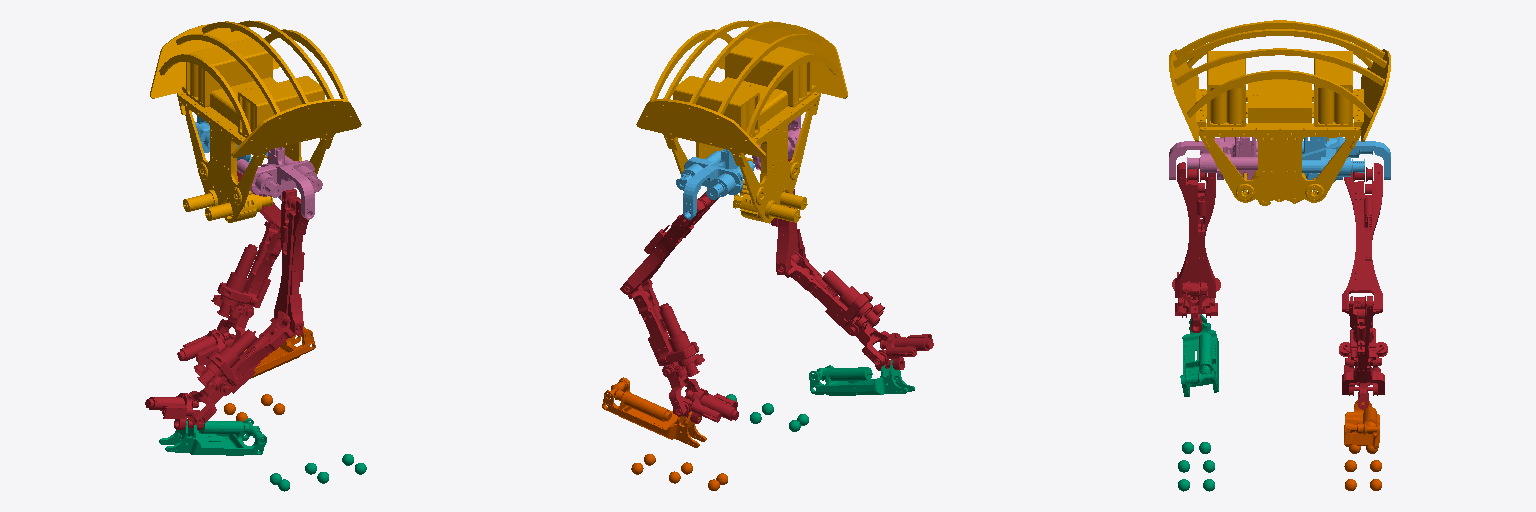
--- Facts derived from the render (not from the file) ---
The picture shows the robot from 3 angles, left to right: view 1: azimuth 30°, elevation 25°; view 2: azimuth 150°, elevation 25°; view 3: azimuth 270°, elevation 25°; orthographic projection.
Model Legs with 11 links and 10 joints (10 revolute), rooted at pelvis, posed every joint at zero.
Links seen in each view (by area): view 1: pelvis, Biped__Bottom_Right_Leg, Biped__Bottom_Left_Leg, r_foot, Biped__Top_Right_Leg, Biped__Right_Hip, l_foot, Biped__Right_Ankle, Biped__Left_Ankle; view 2: pelvis, Biped__Bottom_Left_Leg, Biped__Bottom_Right_Leg, l_foot, r_foot, Biped__Left_Hip, Biped__Top_Left_Leg, Biped__Left_Ankle, Biped__Right_Ankle, Biped__Top_Right_Leg; view 3: pelvis, Biped__Top_Left_Leg, Biped__Top_Right_Leg, Biped__Bottom_Left_Leg, r_foot, Biped__Left_Hip, Biped__Right_Hip, l_foot, Biped__Bottom_Right_Leg.
Link boxes in pixels (box(x1,y1,x2,y2)): pelvis: box(150, 20, 361, 222); Biped__Bottom_Right_Leg: box(189, 312, 300, 425); Biped__Bottom_Left_Leg: box(211, 221, 281, 356); r_foot: box(159, 418, 366, 491); Biped__Top_Right_Leg: box(274, 189, 308, 335); Biped__Right_Hip: box(237, 147, 322, 219); l_foot: box(188, 326, 315, 421); Biped__Right_Ankle: box(145, 393, 203, 429); Biped__Left_Ankle: box(177, 329, 243, 364); pelvis: box(636, 20, 847, 223); Biped__Bottom_Left_Leg: box(625, 279, 704, 416); Biped__Bottom_Right_Leg: box(779, 252, 889, 366); l_foot: box(602, 377, 727, 490); r_foot: box(726, 360, 914, 431); Biped__Left_Hip: box(676, 149, 754, 219); Biped__Top_Left_Leg: box(620, 189, 718, 294); Biped__Left_Ankle: box(673, 388, 738, 423); Biped__Right_Ankle: box(875, 333, 933, 370); Biped__Top_Right_Leg: box(771, 130, 805, 274); pelvis: box(1169, 20, 1390, 205); Biped__Top_Left_Leg: box(1342, 163, 1382, 309); Biped__Top_Right_Leg: box(1175, 162, 1215, 297); Biped__Bottom_Left_Leg: box(1339, 296, 1387, 395); r_foot: box(1178, 314, 1218, 491); Biped__Left_Hip: box(1302, 137, 1390, 181); Biped__Right_Hip: box(1169, 137, 1257, 179); l_foot: box(1344, 400, 1381, 490); Biped__Bottom_Right_Leg: box(1172, 278, 1220, 317).
Size in the robot's own frame: 0.4578 by 0.3562 by 0.7618 metres.
11 mesh visuals loaded from 11 distinct referenced files (10 binary STL, 1 OBJ).

URDF robot description (Legs):
<?xml version="1.0" ?>
<robot name="Legs">

<!-- TRANSMISSIONS -->
  <transmission name="l_hip_abduct_trans" type="pr2_mechanism_model/SimpleTransmission">
    <actuator name="l_hip_abduct_motor"/>
    <joint name="l_hip_abduct"/>
    <mechanicalReduction>1</mechanicalReduction>
  </transmission>
  <transmission name="l_hip_flex_trans" type="pr2_mechanism_model/SimpleTransmission">
    <actuator name="l_hip_flex_motor"/>
    <joint name="l_hip_flex"/>
    <mechanicalReduction>1</mechanicalReduction>
  </transmission>
  <transmission name="l_knee_trans" type="pr2_mechanism_model/SimpleTransmission">
    <actuator name="l_knee_motor"/>
    <joint name="l_knee"/>
    <mechanicalReduction>1</mechanicalReduction>
  </transmission>
  <transmission name="l_ankle_flex_trans" type="pr2_mechanism_model/SimpleTransmission">
    <actuator name="l_ankle_flex_motor"/>
    <joint name="l_ankle_flex"/>
    <mechanicalReduction>1</mechanicalReduction>
  </transmission>
  <transmission name="l_ankle_roll_trans" type="pr2_mechanism_model/SimpleTransmission">
    <actuator name="l_ankle_roll_motor"/>
    <joint name="l_ankle_roll"/>
    <mechanicalReduction>1</mechanicalReduction>
  </transmission>
<!--   <transmission name="l_toe_flex_trans" type="pr2_mechanism_model/SimpleTransmission">
    <actuator name="l_toe_flex_motor"/>
    <joint name="l_toe_flex"/>
    <mechanicalReduction>1</mechanicalReduction>
  </transmission> -->
  <transmission name="r_hip_abduct_trans" type="pr2_mechanism_model/SimpleTransmission">
    <actuator name="r_hip_abduct_motor"/>
    <joint name="r_hip_abduct"/>
    <mechanicalReduction>1</mechanicalReduction>
  </transmission>
  <transmission name="r_hip_flex_trans" type="pr2_mechanism_model/SimpleTransmission">
    <actuator name="r_hip_flex_motor"/>
    <joint name="r_hip_flex"/>
    <mechanicalReduction>1</mechanicalReduction>
  </transmission>
  <transmission name="r_knee_trans" type="pr2_mechanism_model/SimpleTransmission">
    <actuator name="r_knee_motor"/>
    <joint name="r_knee"/>
    <mechanicalReduction>1</mechanicalReduction>
  </transmission>
  <transmission name="r_ankle_flex_trans" type="pr2_mechanism_model/SimpleTransmission">
    <actuator name="r_ankle_flex_motor"/>
    <joint name="r_ankle_flex"/>
    <mechanicalReduction>1</mechanicalReduction>
  </transmission>
  <transmission name="r_ankle_roll_trans" type="pr2_mechanism_model/SimpleTransmission">
    <actuator name="r_ankle_roll_motor"/>
    <joint name="r_ankle_roll"/>
    <mechanicalReduction>1</mechanicalReduction>
  </transmission>
<!--   <transmission name="r_toe_flex_trans" type="pr2_mechanism_model/SimpleTransmission">
    <actuator name="r_toe_flex_motor"/>
    <joint name="r_toe_flex"/>
    <mechanicalReduction>1</mechanicalReduction>
  </transmission> -->



<!-- JOINTS -->
  <joint name="l_hip_abduct" type="revolute">
    <parent link="pelvis"/>
    <child link="Biped__Left_Hip"/>
    <origin rpy="1.56567  0      -1.57079" xyz="0.0107    0.05539   -0.10919"/>
    <axis xyz="0      -0.00511  0.99998"/>
    <limit effort="100.0" lower="-0.486936705914" upper="0.628150227902" velocity="0.0"/>
  </joint>
  <joint name="l_hip_flex" type="revolute">
    <parent link="Biped__Left_Hip"/>
    <child link="Biped__Top_Left_Leg"/>
    <origin rpy="0  0  0" xyz="-8.05900000e-02  -1.00000000e-05   3.02000000e-03"/>
    <axis xyz="-1  0  0"/>
    <limit effort="100.0" lower="-2.03583339041" upper="2.16044300072" velocity="0.0"/>
  </joint>
  <joint name="l_knee" type="revolute">
    <parent link="Biped__Top_Left_Leg"/>
    <child link="Biped__Bottom_Left_Leg"/>
    <origin rpy="0  0  0" xyz="0.00373 -0.20954 -0.00107"/>
    <axis xyz="-1  0  0"/>
    <limit effort="100.0" lower="-2.61562604133" upper="2.60767984583" velocity="0.0"/>
  </joint>
  <joint name="l_ankle_flex" type="revolute">
    <parent link="Biped__Bottom_Left_Leg"/>
    <child link="Biped__Left_Ankle"/>
    <origin rpy="0  0  0" xyz="-1.50000000e-04  -2.21290000e-01  -1.13000000e-03"/>
    <axis xyz="-1  0  0"/>
    <limit effort="100.0" lower="-1.36043531266" upper="0.135930877095" velocity="0.0"/>
  </joint>
  <joint name="l_ankle_roll" type="revolute">
    <parent link="Biped__Left_Ankle"/>
    <child link="l_foot"/>
    <!-- <origin rpy="0  0  0" xyz="-0.00077 -0.0179  -0.06914"/> -->
    <origin rpy="-1.5708  1.5708 0" xyz="-0.00077 -0.0179  -0.06914"/>
    <!-- <axis xyz="0      -0.00511  0.99998"/> -->
    <axis xyz="-0.99998      0  -0.00511"/>
    <limit effort="100.0" lower="-1.32128191897" upper="1.32128191897" velocity="0.0"/>
  </joint>
  <!-- <joint name="l_toe_flex" type="revolute">
    <parent link="l_foot"/>
    <child link="l_toe"/>
    <! <origin rpy="0  0  0" xyz="0.00232 -0.03426 -0.06708"/> old>
    <origin rpy="1.5708  0 -1.5708" xyz="0.06708 -0.00232 -0.03426"/>
    <axis xyz="-1  0  0"/>
    <limit effort="100.0" lower="-0.421908321567" upper="1.92797301525" velocity="0.0"/>
  </joint> -->
  <joint name="r_hip_abduct" type="revolute">
    <parent link="pelvis"/>
    <child link="Biped__Right_Hip"/>
    <origin rpy="1.56567  0      -1.57079" xyz="0.00455  -0.05573  -0.10919"/>
    <axis xyz="0       0.00511 -0.99998"/>
    <limit effort="100.0" lower="-0.450917249297" upper="0.628150227902" velocity="0.0"/>
  </joint>
  <joint name="r_hip_flex" type="revolute">
    <parent link="Biped__Right_Hip"/>
    <child link="Biped__Top_Right_Leg"/>
    <origin rpy="0  0  0" xyz="7.52400000e-02   1.00000000e-05  -3.13000000e-03"/>
    <axis xyz="-1  0  0"/>
    <limit effort="100.0" lower="-2.03583339041" upper="2.16044300072" velocity="0.0"/>
  </joint>
  <joint name="r_knee" type="revolute">
    <parent link="Biped__Top_Right_Leg"/>
    <child link="Biped__Bottom_Right_Leg"/>
    <origin rpy="0  0  0" xyz="0.00328 -0.20954 -0.00107"/>
    <axis xyz="-1  0  0"/>
    <limit effort="100.0" lower="-2.60767984583" upper="2.60767984583" velocity="0.0"/>
  </joint>
  <joint name="r_ankle_flex" type="revolute">
    <parent link="Biped__Bottom_Right_Leg"/>
    <child link="Biped__Right_Ankle"/>
    <origin rpy="0  0  0" xyz="4.00000000e-05  -2.21290000e-01  -1.13000000e-03"/>
    <axis xyz="-1  0  0"/>
    <limit effort="100.0" lower="-1.34264425814" upper="0.135930877095" velocity="0.0"/>
  </joint>
  <joint name="r_ankle_roll" type="revolute">
    <parent link="Biped__Right_Ankle"/>
    <child link="r_foot"/>
    <!--original: origin rpy="0  0  0" xyz="-0.00079 -0.01789 -0.07124"/-->
    <origin rpy="-1.5708  1.5708 0" xyz="-0.00079 -0.01789 -0.07124"/>
    <!--axis xyz="0       0.00511 -0.99998"/-->
    <axis xyz="0.99998    0   0.00511"/>
    <limit effort="100.0" lower="-1.32128191897" upper="1.32128191897" velocity="0.0"/>
  </joint>
<!--   <joint name="r_toe_flex" type="revolute">
    <parent link="r_foot"/>
    <child link="r_toe"/>
    <! <origin rpy="0  0  0" xyz="0.00258 -0.03427 -0.06497"/> old>
    <origin rpy="1.5708  0 -1.5708" xyz="0.06497 -0.00258 -0.03427"/>
    <axis xyz="-1  0  0"/>
    <limit effort="100.0" lower="-0.421908321567" upper="1.92797301525" velocity="0.0"/>
  </joint> -->

<!-- LINKS -->
  <link name="pelvis">
    <inertial>
      <mass value="3.53324885586669"/>
      <!-- origin used to be at xyz=-0.00768   0.00017   0.62433"-->
      <origin rpy="1.56567  0      -1.57079" xyz="0 0 0"/>
      <inertia ixx="0.0271179077728007" ixy="1.18852566353138E-05" ixz="2.95478792996208E-05" iyy="0.0323353494450389" iyz="0.00289482168449842" izz="0.0422145237899791"/>
    </inertial>
    <collision name="Biped__Body_collision">
      <origin rpy="1.56567  0      -1.57079" xyz="0.0786    0.05923   -0.41164"/>
      <geometry>
        <mesh filename="meshes/Body_col.STL" scale="1 1 1"/>
      </geometry>
    </collision>
    <visual name="Biped__Body_visual">
      <origin rpy="1.56567  0      -1.57079" xyz="0.0786    0.05923   -0.41164"/>
      <geometry>
        <mesh filename="meshes/Body.obj" scale="1 1 1"/>
      </geometry>
    </visual>
  </link>
  <link name="Biped__Left_Hip">
    <inertial>
      <mass value="0.437298303222345"/>
      <origin rpy="0  0  0" xyz="-0.03492  0.03099  0.00015"/>
      <inertia ixx="0.000344658356090036" ixy="1.4438940947967E-05" ixz="5.03774354824921E-05" iyy="0.000819710121372963" iyz="1.99893504999227E-05" izz="0.00066955963284712"/>
    </inertial>
    <collision name="Biped__Left_Hip_collision">
      <origin rpy="0  0  0" xyz="-0.00384 -0.3021  -0.06945"/>
      <geometry>
        <mesh filename="meshes/Left_Hip_col.STL" scale="1 1 1"/>
      </geometry>
    </collision>
    <visual name="Biped__Left_Hip_visual">
      <origin rpy="0  0  0" xyz="-0.00384 -0.3021  -0.06945"/>
      <geometry>
        <mesh filename="meshes/Left_Hip.STL" scale="1 1 1"/>
      </geometry>
    </visual>
  </link>
  <link name="Biped__Top_Left_Leg">
    <inertial>
      <mass value="0.498661421818378"/>
      <origin rpy="0  0  0" xyz="0      -0.09292 -0.00071"/>
      <inertia ixx="0.00222023286489819" ixy="2.76170328092637E-05" ixz="4.42071982951624E-07" iyy="0.000133616406118555" iyz="1.5209311638611E-05" izz="0.00230781854965746"/>
    </inertial>
    <collision name="Biped__Top_Left_Leg_collision">
      <origin rpy="0  0  0" xyz="0.07675 -0.30208 -0.07247"/>
      <geometry>
        <mesh filename="meshes/Top_Left_Leg_col.STL" scale="1 1 1"/>
      </geometry>
    </collision>
    <visual name="Biped__Top_Left_Leg_visual">
      <origin rpy="0  0  0" xyz="0.07675 -0.30208 -0.07247"/>
      <geometry>
        <mesh filename="meshes/Top_Left_Leg.STL" scale="1 1 1"/>
      </geometry>
      <material name="red">
        <color rgba ="0.675 0.169 0.216 1.0"/>
      </material>
    </visual>
  </link>
  <link name="Biped__Bottom_Left_Leg">
    <inertial>
      <mass value="0.512558545145301"/>
      <origin rpy="0  0  0" xyz="0      -0.11018  0.00843"/>
      <inertia ixx="0.00213377963819277" ixy="3.74835359824284E-05" ixz="4.14809936352257E-06" iyy="0.000231679313040171" iyz="0.000107877166470471" izz="0.0021213704718963"/>
    </inertial>
    <collision name="Biped__Bottom_Left_Leg_collision">
      <origin rpy="0  0  0" xyz="0.07301 -0.09254 -0.0714"/>
      <geometry>
        <mesh filename="meshes/Bottom_Left_Leg_col.STL" scale="1 1 1"/>
      </geometry>
    </collision>
    <visual name="Biped__Bottom_Left_Leg_visual">
      <origin rpy="0  0  0" xyz="0.07301 -0.09254 -0.0714"/>
      <geometry>
        <mesh filename="meshes/Bottom_Left_Leg.STL" scale="1 1 1"/>
      </geometry>
      <material name="red"/>
    </visual>
  </link>
  <link name="Biped__Left_Ankle">
    <inertial>
      <mass value="0.117206413777382"/>
      <origin rpy="0  0  0" xyz="0       0.00525  0.02552"/>
      <inertia ixx="0.000111896827570048" ixy="5.94543100842475E-07" ixz="2.57140126177776E-06" iyy="0.000105965848764851" iyz="2.65868228080628E-05" izz="4.20803404080659E-05"/>
    </inertial>
    <collision name="Biped__Left_Ankle_collision">
      <origin rpy="0  0  0" xyz="0.07317  0.12875 -0.07027"/>
      <geometry>
        <mesh filename="meshes/Left_Ankle_col.STL" scale="1 1 1"/>
      </geometry>
    </collision>
    <visual name="Biped__Left_Ankle_visual">
      <origin rpy="0  0  0" xyz="0.07317  0.12875 -0.07027"/>
      <geometry>
        <mesh filename="meshes/Left_Ankle.STL" scale="1 1 1"/>
      </geometry>
      <material name="red"/>
    </visual>
  </link>
  <link name="l_foot">
    <inertial>
      <mass value="0.350801552548944"/>
      <!-- <origin rpy="0  0  0" xyz="-0.00146 -0.02757 -0.00014"/> -->
      <origin rpy="1.5708  0 -1.5708" xyz="0.00014 0.00146 -0.02757"/>
      <inertia ixx="0.000904665834453429" ixy="7.01175958971625E-06" ixz="4.60520410965569E-06" iyy="0.000926980236054857" iyz="5.01437405892954E-05" izz="0.00014911487451342"/>
    </inertial>
    <collision name="Biped__Left_Foot_collision">
      <!-- <origin rpy="0  0  0" xyz="0.07394  0.14666 -0.00112"/> -->
      <origin rpy="1.5708  0 -1.5708" xyz="0.00112  -0.07394 0.14666"/>
      <geometry>
        <mesh filename="meshes/Left_Foot_col.STL" scale="1 1 1"/>
      </geometry>
    </collision>
    <visual name="Biped__Left_Foot_visual">
      <origin rpy="1.5708  0 -1.5708" xyz="0.00112  -0.07394 0.14666"/>
      <geometry>
        <mesh filename="meshes/Left_Foot.STL" scale="1 1 1"/>
      </geometry>
    </visual>

<!-- LEFT FOOT CONTACTS: Heel, Midfoot, and Toe are all on foot link-->

    <collision group="heel">
      <!-- <origin rpy="0 0 0" xyz="0.0139 -0.048 0.1002"/> -->
      <origin rpy="0 0 0" xyz="-0.1002 -0.0139 -0.048"/>
      <geometry>
        <sphere radius="0.0"/>
      </geometry>
    </collision>
    <visual group="heel">
      <origin rpy="0 0 0" xyz="-0.1002 -0.0139 -0.048"/>
      <geometry>
        <sphere radius="0.01"/>
      </geometry>
    </visual>
    <collision group="heel">
      <origin rpy="0 0 0" xyz="-0.1002 0.0139 -0.048"/>
      <geometry>
        <sphere radius="0.0"/>
      </geometry>
    </collision>
    <visual group="heel">
      <origin rpy="0 0 0" xyz="-0.1002 0.0139 -0.048"/>
      <geometry>
        <sphere radius="0.01"/>
      </geometry>
    </visual>

    <collision group="midfoot">
      <!-- <origin rpy="0 0 0" xyz="0.0203 -0.0472 0.0294"/> -->
      <origin rpy="0 0 0" xyz="-0.0294 -0.0203 -0.0472"/>
      <geometry>
        <sphere radius="0.0"/>
      </geometry>
    </collision>
    <visual group="midfoot">
      <origin rpy="0 0 0" xyz="-0.0294 -0.0203 -0.0472"/>
      <geometry>
        <sphere radius="0.01"/>
      </geometry>
    </visual>
    <collision group="midfoot">
      <origin rpy="0 0 0" xyz="-0.0294 0.0203 -0.0472"/>
      <geometry>
        <sphere radius="0.0"/>
      </geometry>
    </collision>
    <visual group="midfoot">
      <origin rpy="0 0 0" xyz="-0.0294 0.0203 -0.0472"/>
      <geometry>
        <sphere radius="0.01"/>
      </geometry>
    </visual>

    <collision group="toe">
      <!-- <origin rpy="0 0 0" xyz="0.0203 -0.0472 -0.0413"/> -->
      <origin rpy="0 0 0" xyz="0.0413 -0.0203 -0.0472"/>
      <geometry>
        <sphere radius="0.0"/>
      </geometry>
    </collision>
    <visual group="toe">
      <origin rpy="0 0 0" xyz="0.0413 -0.0203 -0.0472"/>
      <geometry>
        <sphere radius="0.01"/>
      </geometry>
    </visual>
    <collision group="toe">
      <origin rpy="0 0 0" xyz="0.0413 0.0203 -0.0472"/>
      <geometry>
        <sphere radius="0.0"/>
      </geometry>
    </collision>
    <visual group="toe">
      <origin rpy="0 0 0" xyz="0.0413 0.0203 -0.0472"/>
      <geometry>
        <sphere radius="0.01"/>
      </geometry>
    </visual>

  </link>
<!--   <link name="l_toe">
    <inertial>
      <mass value="0.137471301666086"/>
      <origin rpy="0  0  0" xyz="0       0.00024 -0.03181"/>
      <inertia ixx="5.08521148560519E-05" ixy="3.52897714651812E-06" ixz="4.05786167235431E-06" iyy="6.19912432858944E-05" iyz="1.63142203902691E-06" izz="2.56251883813568E-05"/>
    </inertial>
    <collision name="Biped__Left_Toe_collision">
      <origin rpy="0  0  0" xyz="0.07162  0.18092  0.06595"/>
      <geometry>
        <mesh filename="meshes/Left_Toe_col.STL" scale="1 1 1"/>
      </geometry>
    </collision>
    <visual name="Biped__Left_Toe_visual">
      <origin rpy="0  0  0" xyz="0.07162  0.18092  0.06595"/>
      <geometry>
        <mesh filename="meshes/Left_Toe.STL" scale="1 1 1"/>
      </geometry>
    </visual> >

    <!collision group="toe">
      <origin rpy="0 0 0" xyz="0.0137 -0.0127 -0.0548"/>
      <geometry>
        <sphere radius="0.0"/>
      </geometry>
    </collision>
    <visual group="toe">
      <origin rpy="0 0 0" xyz="0.0137 -0.0127 -0.0548"/>
      <geometry>
        <sphere radius="0.01"/>
      </geometry>
    </visual>
    <collision group="toe">
      <origin rpy="0 0 0" xyz="-0.0141 -0.0127 -0.0548"/>
      <geometry>
        <sphere radius="0.0"/>
      </geometry>
    </collision>
    <visual group="toe">
      <origin rpy="0 0 0" xyz="-0.0141 -0.0127 -0.0548"/>
      <geometry>
        <sphere radius="0.01"/>
      </geometry>
    </visual>

  </link-->
  <link name="Biped__Right_Hip">
    <inertial>
      <mass value="0.429542604129865"/>
      <origin rpy="0  0  0" xyz="0.03461  0.03088  0.00015"/>
      <inertia ixx="0.000335620222780637" ixy="1.71766252899159E-05" ixz="6.82036560203188E-05" iyy="0.000796625170345829" iyz="1.87749814800264E-05" izz="0.000651844767117383"/>
    </inertial>
    <collision name="Biped__Right_Hip_collision">
      <origin rpy="0  0  0" xyz="-0.11497 -0.30207 -0.0756"/>
      <geometry>
        <mesh filename="meshes/Right_Hip_col.STL" scale="1 1 1"/>
      </geometry>
    </collision>
    <visual name="Biped__Right_Hip_visual">
      <origin rpy="0  0  0" xyz="-0.11497 -0.30207 -0.0756"/>
      <geometry>
        <mesh filename="meshes/Right_Hip.STL" scale="1 1 1"/>
      </geometry>
    </visual>
  </link>
  <link name="Biped__Top_Right_Leg">
    <inertial>
      <mass value="0.473894617598188"/>
      <origin rpy="0  0  0" xyz="0      -0.09427 -0.00073"/>
      <inertia ixx="0.00219613513040201" ixy="2.41554166439975E-05" ixz="4.92477643768768E-07" iyy="0.000130736562803138" iyz="1.49414818095768E-05" izz="0.00228460638702232"/>
    </inertial>
    <collision name="Biped__Top_Right_Leg_collision">
      <origin rpy="0  0  0" xyz="-0.19021 -0.30208 -0.07247"/>
      <geometry>
        <mesh filename="meshes/Top_Right_Leg_col.STL" scale="1 1 1"/>
      </geometry>
    </collision>
    <visual name="Biped__Top_Right_Leg_visual">
      <origin rpy="0  0  0" xyz="-0.19021 -0.30208 -0.07247"/>
      <geometry>
        <mesh filename="meshes/Top_Right_Leg.STL" scale="1 1 1"/>
      </geometry>
      <material name="red"/>
    </visual>
  </link>
  <link name="Biped__Bottom_Right_Leg">
    <inertial>
      <mass value="0.496399914621672"/>
      <origin rpy="0  0  0" xyz="0      -0.11414  0.00893"/>
      <inertia ixx="0.00193251368574828" ixy="2.87905126861506E-05" ixz="3.64310219704147E-06" iyy="0.000228879661927419" iyz="9.27392912409724E-05" izz="0.00191229395918849"/>
    </inertial>
    <collision name="Biped__Bottom_Right_Leg_collision">
      <origin rpy="0  0  0" xyz="-0.1935  -0.09254 -0.0714"/>
      <geometry>
        <mesh filename="meshes/Bottom_Right_Leg_col.STL" scale="1 1 1"/>
      </geometry>
    </collision>
    <visual name="Biped__Bottom_Right_Leg_visual">
      <origin rpy="0  0  0" xyz="-0.1935  -0.09254 -0.0714"/>
      <geometry>
        <mesh filename="meshes/Bottom_Right_Leg.STL" scale="1 1 1"/>
      </geometry>
      <material name="red"/>
    </visual>
  </link>
  <link name="Biped__Right_Ankle">
    <inertial>
      <mass value="0.113529232705104"/>
      <origin rpy="0  0  0" xyz="0       0.00601  0.02692"/>
      <inertia ixx="0.000102683690789615" ixy="5.24094963661094E-07" ixz="2.43532379680455E-06" iyy="9.8810717962194E-05" iyz="2.27559446851328E-05" izz="3.98903277983113E-05"/>
    </inertial>
    <collision name="Biped__Right_Ankle_collision">
      <origin rpy="0  0  0" xyz="-0.19355  0.12875 -0.07027"/>
      <geometry>
        <mesh filename="meshes/Right_Ankle_col.STL" scale="1 1 1"/>
      </geometry>
    </collision>
    <visual name="Biped__Right_Ankle_visual">
      <origin rpy="0  0  0" xyz="-0.19355  0.12875 -0.07027"/>
      <geometry>
        <mesh filename="meshes/Right_Ankle.STL" scale="1 1 1"/>
      </geometry>
      <material name="red"/>
    </visual>
  </link>
  <link name="r_foot">
    <inertial>
      <mass value="0.335422598099665"/>
      <!--origin rpy="0  0  0" xyz="-0.00156 -0.02863 -0.00014"/-->
      <origin rpy="1.5708  0 -1.5708" xyz="0.00014 0.00156 -0.02863"/>
      <inertia ixx="0.000825311286057891" ixy="7.70619999918036E-06" ixz="7.38179683506509E-06" iyy="0.000855538414270564" iyz="7.08159606800129E-05" izz="0.000138582194390659"/>
    </inertial>
    <collision name="Biped__Right_Foot_collision">
      <!-- <origin rpy="0  0  0" xyz="-0.19275  0.14664  0.00097"/> -->
      <origin rpy="1.5708  0 -1.5708" xyz="-0.00097  0.19275  0.14664"/>
      <geometry>
        <mesh filename="meshes/Right_Foot_col.STL" scale="1 1 1"/>
      </geometry>
    </collision>
    <visual name="Biped__Right_Foot_visual">
      <origin rpy="1.5708  0 -1.5708" xyz="-0.00097  0.19275  0.14664"/>
      <geometry>
        <mesh filename="meshes/Right_Foot.STL" scale="1 1 1"/>
      </geometry>
    </visual>
    <!-- RIGHT FOOT CONTACTS -->
    <collision group="heel">
      <!-- <origin rpy="0 0 0" xyz="0.0139 -0.048 0.1015"/> -->
      <origin rpy="0 0 0" xyz="-0.1015 -0.0139 -0.048"/>
      <geometry>
        <sphere radius="0.0"/>
      </geometry>
    </collision>
    <visual group="heel">
      <origin rpy="0 0 0" xyz="-0.1015 -0.0139 -0.048"/>
      <geometry>
        <sphere radius="0.01"/>
      </geometry>
    </visual>
    <collision group="heel">
      <origin rpy="0 0 0" xyz="-0.1015 0.0139 -0.048"/>
      <geometry>
        <sphere radius="0.0"/>
      </geometry>
    </collision>
    <visual group="heel">
      <origin rpy="0 0 0" xyz="-0.1015 0.0139 -0.048"/>
      <geometry>
        <sphere radius="0.01"/>
      </geometry>
    </visual>

    <collision group="midfoot">
      <!-- <origin rpy="0 0 0" xyz="0.0202 -0.0473 0.0310"/> -->
      <origin rpy="0 0 0" xyz="-0.0310 -0.0202 -0.0473"/>
      <geometry>
        <sphere radius="0.0"/>
      </geometry>
    </collision>
    <visual group="midfoot">
      <origin rpy="0 0 0" xyz="-0.0310 -0.0202 -0.0473"/>
      <geometry>
        <sphere radius="0.01"/>
      </geometry>
    </visual>
    <collision group="midfoot">
      <origin rpy="0 0 0" xyz="-0.0310 0.0202 -0.0473"/>
      <geometry>
        <sphere radius="0.0"/>
      </geometry>
    </collision>
    <visual group="midfoot">
      <origin rpy="0 0 0" xyz="-0.0310 0.0202 -0.0473"/>
      <geometry>
        <sphere radius="0.01"/>
      </geometry>
    </visual>


    <collision group="toe">
      <!-- <origin rpy="0 0 0" xyz="0.0202 -0.0473 -0.0395"/> -->
      <origin rpy="0 0 0" xyz="0.0395 -0.0202 -0.0473"/>
      <geometry>
        <sphere radius="0.0"/>
      </geometry>
    </collision>
    <visual group="toe">
      <origin rpy="0 0 0" xyz="0.0395 -0.0202 -0.0473"/>
      <geometry>
        <sphere radius="0.01"/>
      </geometry>
    </visual>
    <collision group="toe">
      <origin rpy="0 0 0" xyz="0.0395 0.0202 -0.0473"/>
      <geometry>
        <sphere radius="0.0"/>
      </geometry>
    </collision>
    <visual group="toe">
      <origin rpy="0 0 0" xyz="0.0395 0.0202 -0.0473"/>
      <geometry>
        <sphere radius="0.01"/>
      </geometry>
    </visual>

  </link>
<!--   <link name="r_toe">
    <inertial>
      <mass value="0.139662029501898"/>
      <origin rpy="0  0  0" xyz="0.00000000e+00   9.00000000e-05  -3.13100000e-02"/>
      <inertia ixx="5.31151672530742E-05" ixy="3.50667566710867E-06" ixz="2.92506381385933E-06" iyy="6.48339665757882E-05" iyz="1.46916802312387E-06" izz="2.62562435591355E-05"/>
    </inertial>
    <collision name="Biped__Right_Toe_collision">
      <origin rpy="0  0  0" xyz="-0.19534  0.18092  0.06595"/>
      <geometry>
        <mesh filename="meshes/Right_Toe_col.STL" scale="1 1 1"/>
      </geometry>
    </collision>
    <visual name="Biped__Right_Toe_visual">
      <origin rpy="0  0  0" xyz="-0.19534  0.18092  0.06595"/>
      <geometry>
        <mesh filename="meshes/Right_Toe.STL" scale="1 1 1"/>
      </geometry>
    </visual>

    <!collision group="toe">
      <origin rpy="0 0 0" xyz="0.0117 -0.0127 -0.0541"/>
      <geometry>
        <sphere radius="0.0"/>
      </geometry>
    </collision>
    <visual group="toe">
      <origin rpy="0 0 0" xyz="0.0117 -0.0127 -0.0541"/>
      <geometry>
        <sphere radius="0.01"/>
      </geometry>
    </visual>
    <collision group="toe">
      <origin rpy="0 0 0" xyz="-0.0153 -0.0127 -0.0541"/>
      <geometry>
        <sphere radius="0.0"/>
      </geometry>
    </collision>
    <visual group="toe">
      <origin rpy="0 0 0" xyz="-0.0153 -0.0127 -0.0541"/>
      <geometry>
        <sphere radius="0.01"/>
      </geometry>
    </visual>
  </link-->

  <frame link="l_foot" name="l_foot_sole" rpy="0 0 0" xyz="-0.0294 0 -0.0472"/>
  <frame link="r_foot" name="r_foot_sole" rpy="0 0 0" xyz="-0.0310 0 -0.0473"/>
  <frame link="l_foot" name="l_foot_front" rpy="0 0 0" xyz="0.0413 0 -0.0472"/>
  <frame link="r_foot" name="r_foot_front" rpy="0 0 0" xyz="0.0395 0 -0.0473"/>

</robot>
